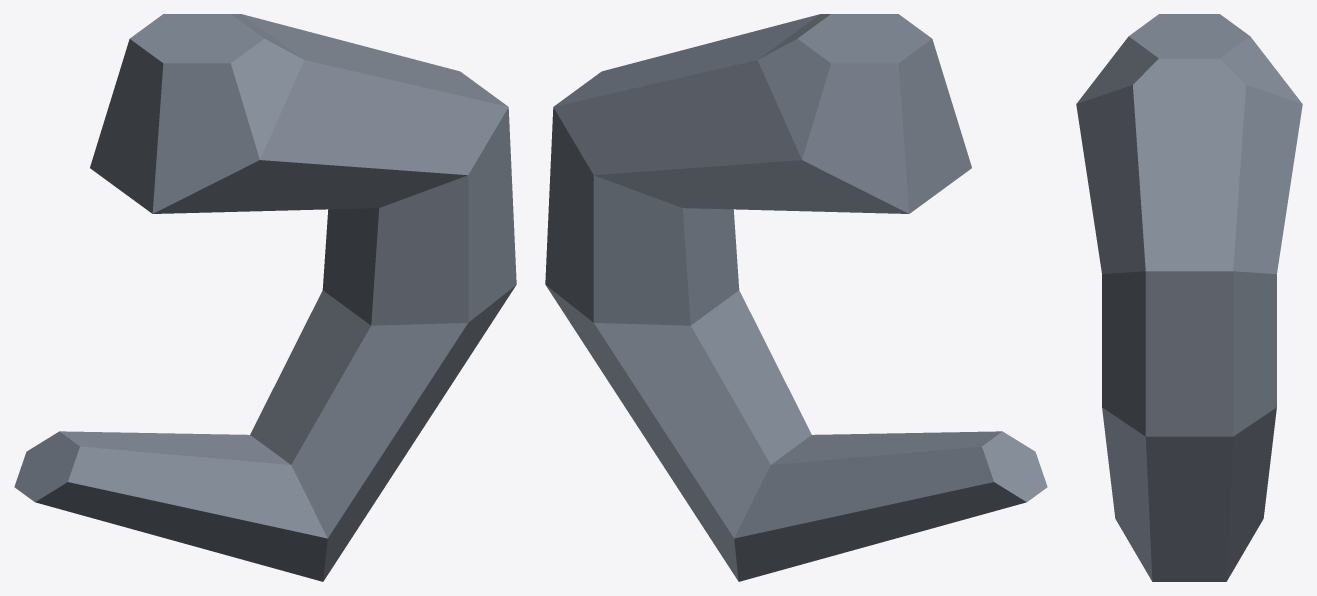
File: Punching bag hook.fbx
The picture shows the model from 3 angles, left to right: view 1: azimuth 30°, elevation 25°; view 2: azimuth 150°, elevation 25°; view 3: azimuth 270°, elevation 25°; orthographic projection. The views are drawn at different scales.
Visible parts, largest first — view 1: punching bag hook; view 2: punching bag hook; view 3: punching bag hook.
Boxes of the visible parts, bbox=[...] form: punching bag hook: bbox=[14, 14, 516, 581]; punching bag hook: bbox=[545, 14, 1047, 581]; punching bag hook: bbox=[1076, 14, 1302, 581].
Bounding box in the file's own units: 10.92 × 12.36 × 5.08.
